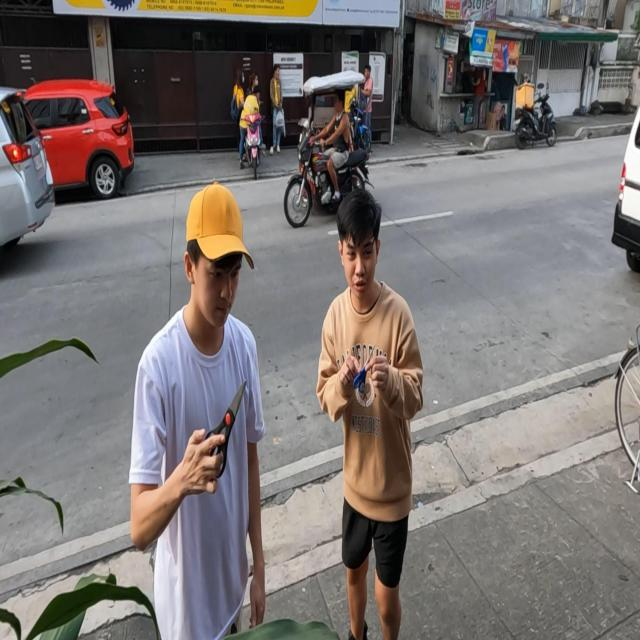scissor: (205, 380, 247, 480), (353, 345, 376, 394)
